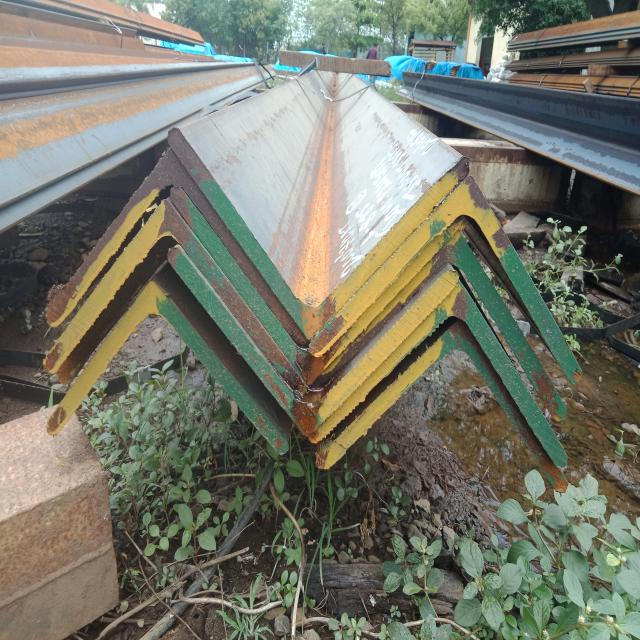metal-angles: (167, 127, 470, 343), (170, 185, 467, 386), (309, 174, 583, 386), (167, 245, 459, 438), (44, 198, 309, 399), (46, 147, 310, 348), (309, 230, 566, 421), (307, 280, 568, 468), (315, 319, 569, 493), (45, 280, 290, 455)
